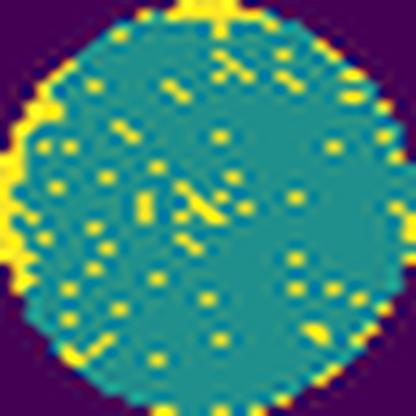Edge-Loc: (0, 52, 85, 300), (164, 0, 276, 43)
